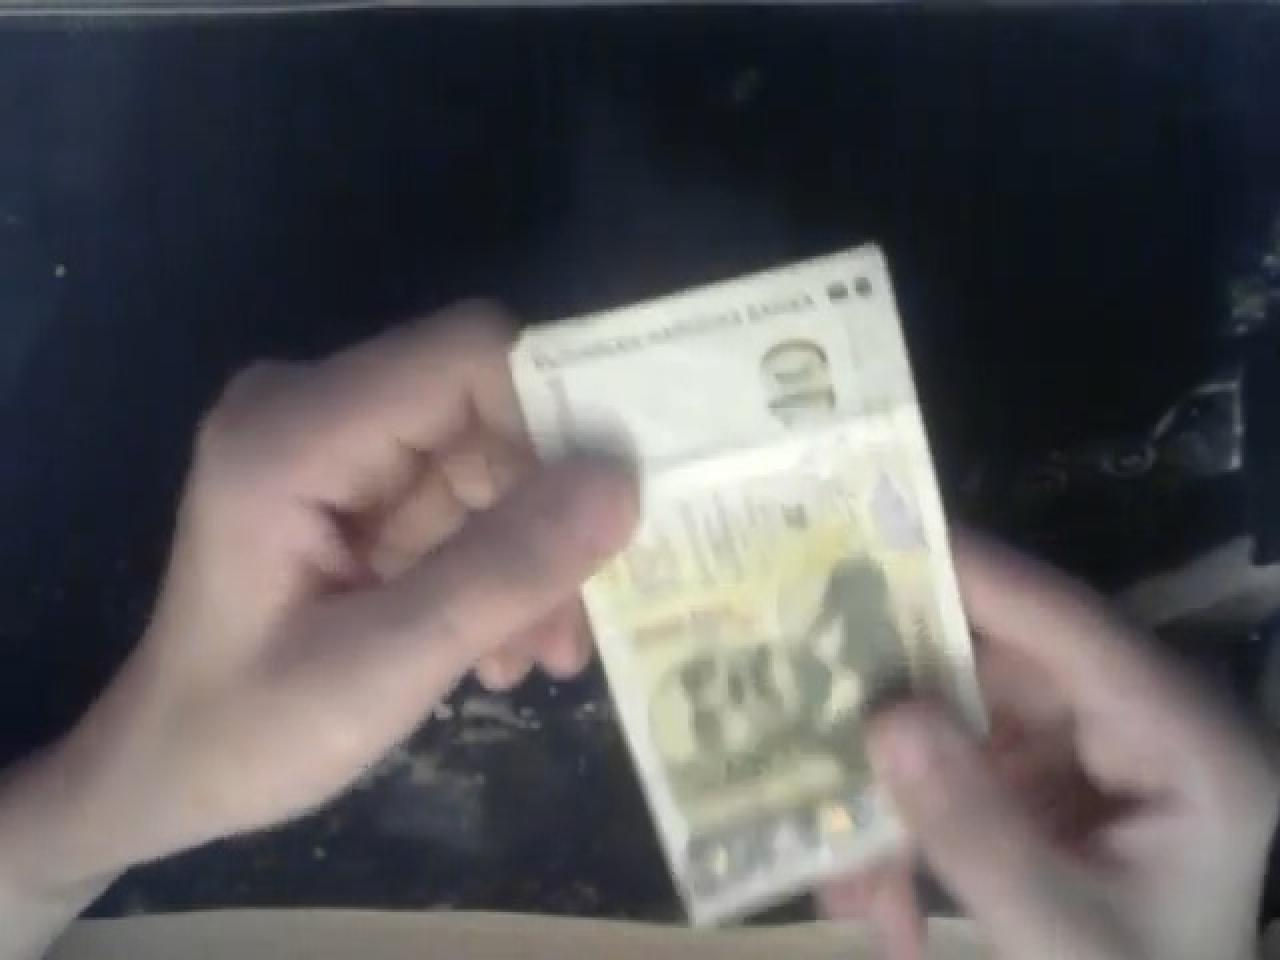10leva: (336, 237, 990, 928)
